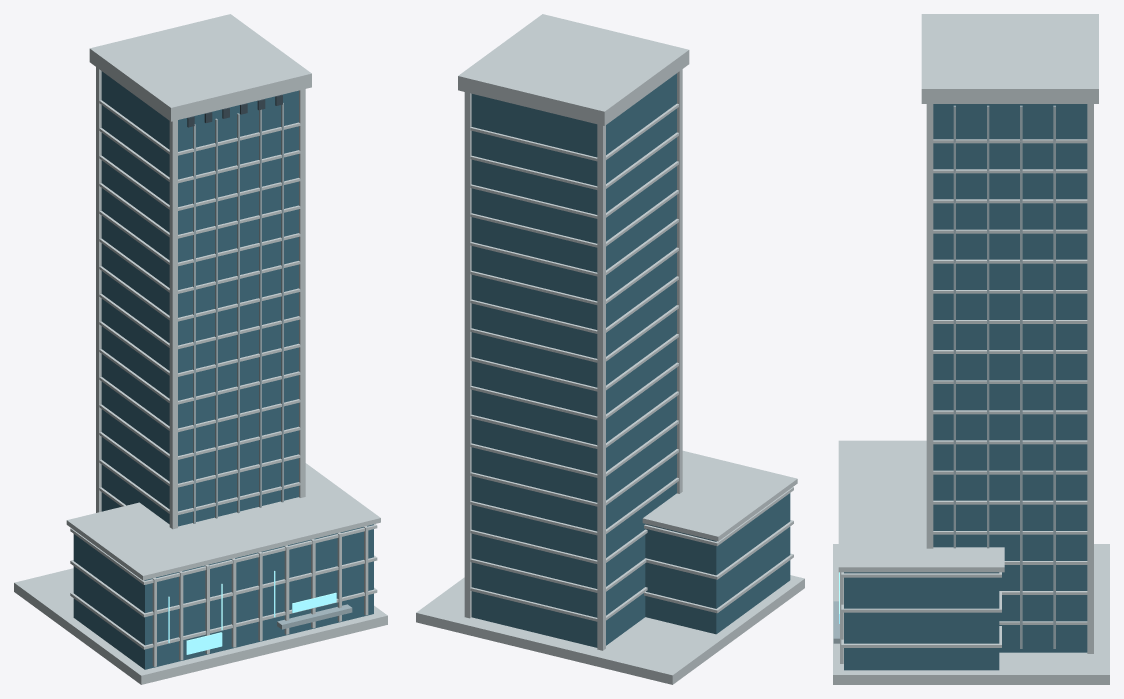
Rendered from Atlantis_NorthwindLabs_HQ_v1.glb.
3 renders of one model, left to right at view 1: azimuth 30°, elevation 25°; view 2: azimuth 150°, elevation 25°; view 3: azimuth 270°, elevation 25°, orthographic. The views are drawn at different scales.
Parts seen in each view (by area): view 1: NorthwindLabs_ResearchGlazing, NorthwindLabs_PaleStructure, NorthwindLabs_Silver; view 2: NorthwindLabs_ResearchGlazing, NorthwindLabs_PaleStructure; view 3: NorthwindLabs_ResearchGlazing, NorthwindLabs_PaleStructure, NorthwindLabs_Silver.
Boxes of the visible parts, x1,y1,x2,y2 form: NorthwindLabs_ResearchGlazing: (73,71,373,669); NorthwindLabs_PaleStructure: (14,14,387,684); NorthwindLabs_Silver: (193,103,352,629); NorthwindLabs_ResearchGlazing: (471,73,790,647); NorthwindLabs_PaleStructure: (416,14,804,684); NorthwindLabs_ResearchGlazing: (844,104,1087,670); NorthwindLabs_PaleStructure: (833,14,1109,684); NorthwindLabs_Silver: (833,105,1055,648).
Bounding box in the file's own units: 56 × 115 × 50.
